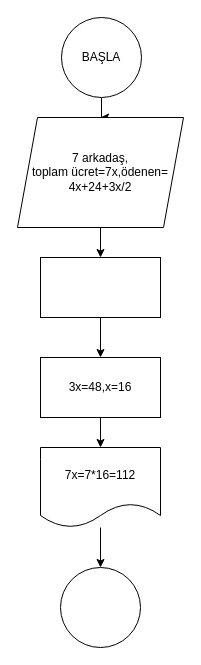
This 201x665 diagram has some shape labels left out. The shapes that lost their labels are listed below. From the top down, each one's centre as x and y in pixels, then its label:
the point at 100,287: 7x=4x+24+3x/2
the point at 100,607: DUR
